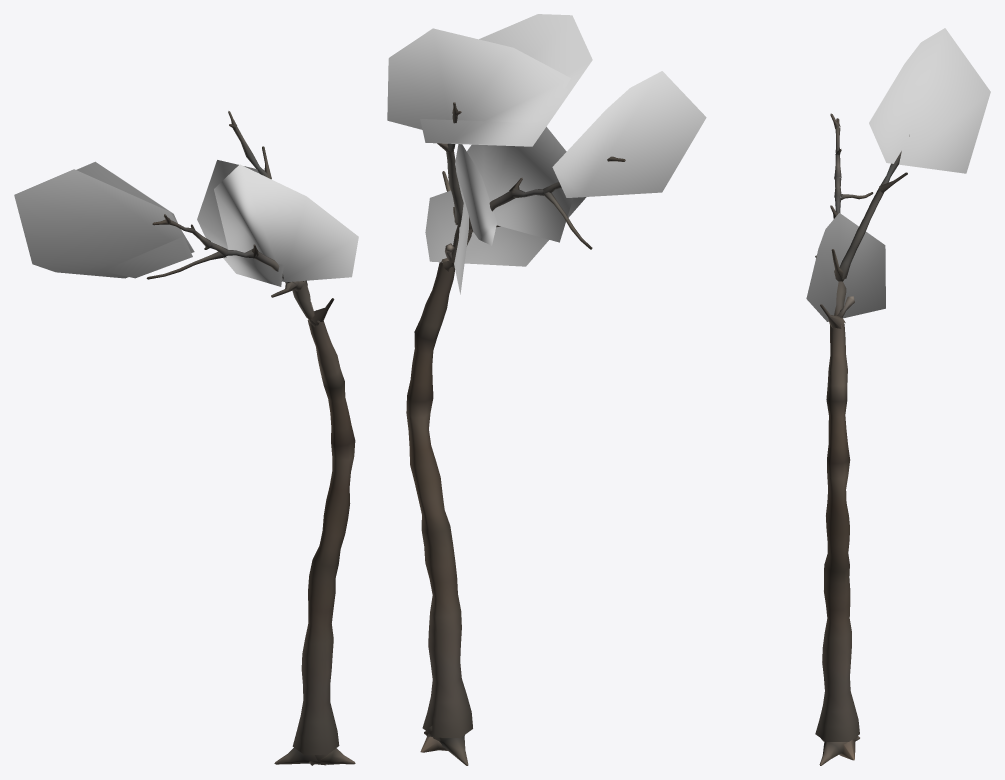
The model's file is slender_2.glb.
3 views of the same model, side by side, from view 1: azimuth 30°, elevation 25°; view 2: azimuth 150°, elevation 25°; view 3: azimuth 270°, elevation 25° (orthographic). The views are drawn at different scales.
Visible parts, largest first — view 1: slender_2; view 2: slender_2; view 3: slender_2.
Part boxes in pixels (x1,y1,x2,y2): slender_2: (14, 111, 358, 765); slender_2: (387, 14, 706, 765); slender_2: (806, 28, 990, 765).
Bounding box in the file's own units: 3.6 × 8.17 × 2.72.
